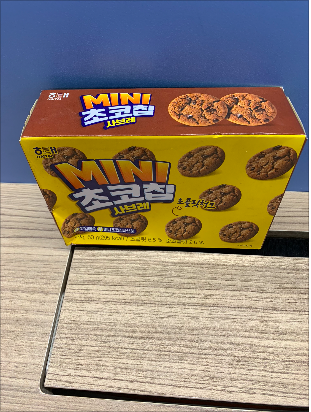Cookies_1-99g: (41, 134, 262, 244)
